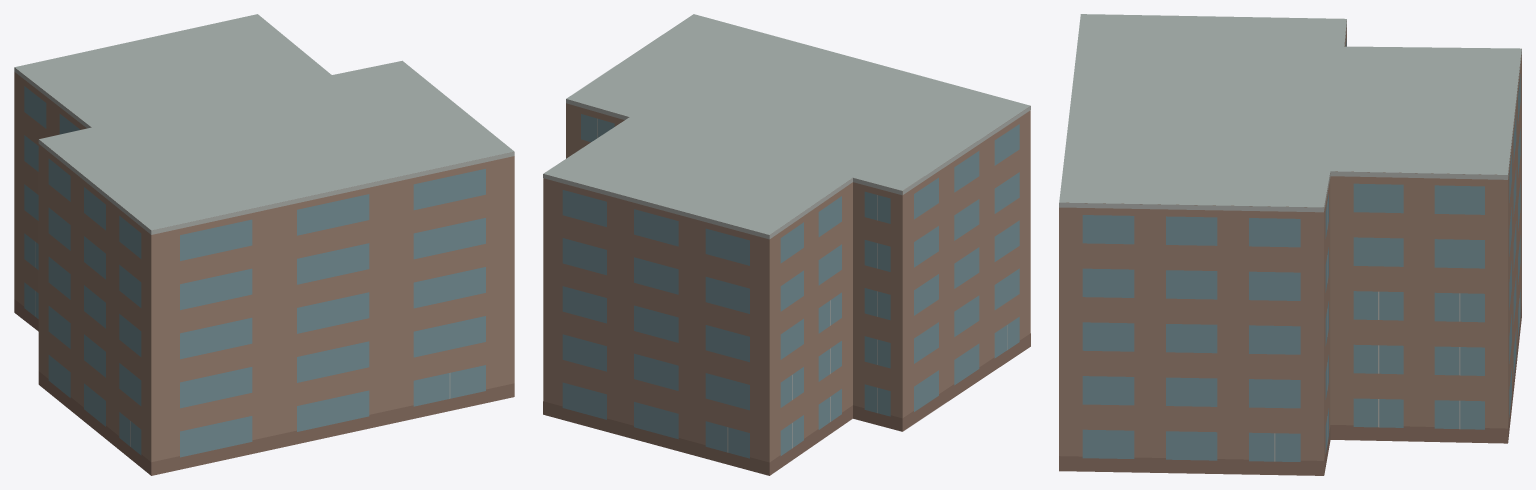
File: survey-upis-32960814.glb
The picture shows the model from 3 angles, left to right: view 1: azimuth 30°, elevation 25°; view 2: azimuth 150°, elevation 25°; view 3: azimuth 270°, elevation 25°; orthographic projection. The views are drawn at different scales.
Parts seen in each view (by area): view 1: survey-upis-32960814.tmp; view 2: survey-upis-32960814.tmp; view 3: survey-upis-32960814.tmp.
Part boxes in pixels (x1,y1,x2,y2): survey-upis-32960814.tmp: [14, 14, 514, 475]; survey-upis-32960814.tmp: [543, 14, 1030, 475]; survey-upis-32960814.tmp: [1059, 14, 1521, 475].
Bounding box in the file's own units: 20.71 × 13.4 × 20.94.
